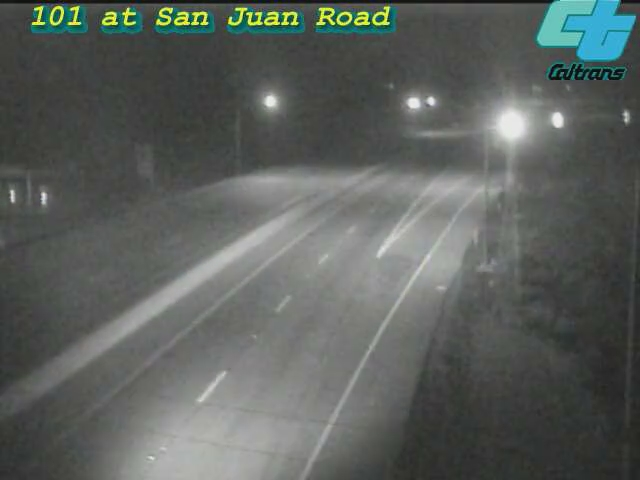vehicle: (484, 101, 534, 151), (532, 94, 582, 144)
